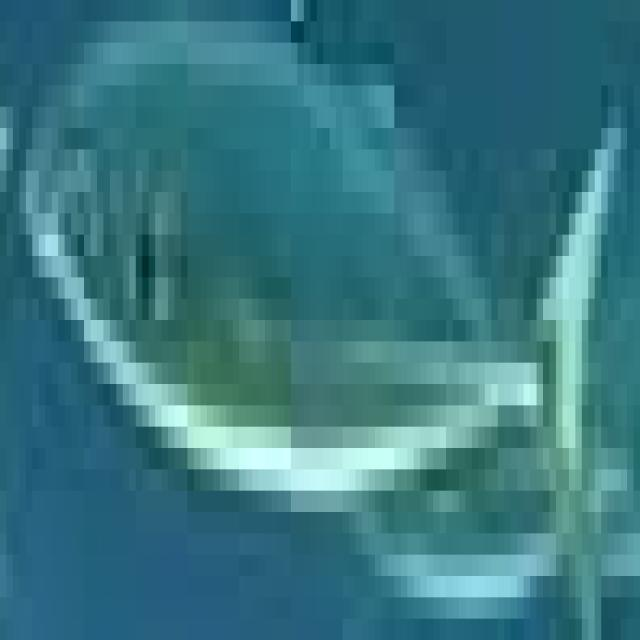fish: (0, 0, 634, 619)
